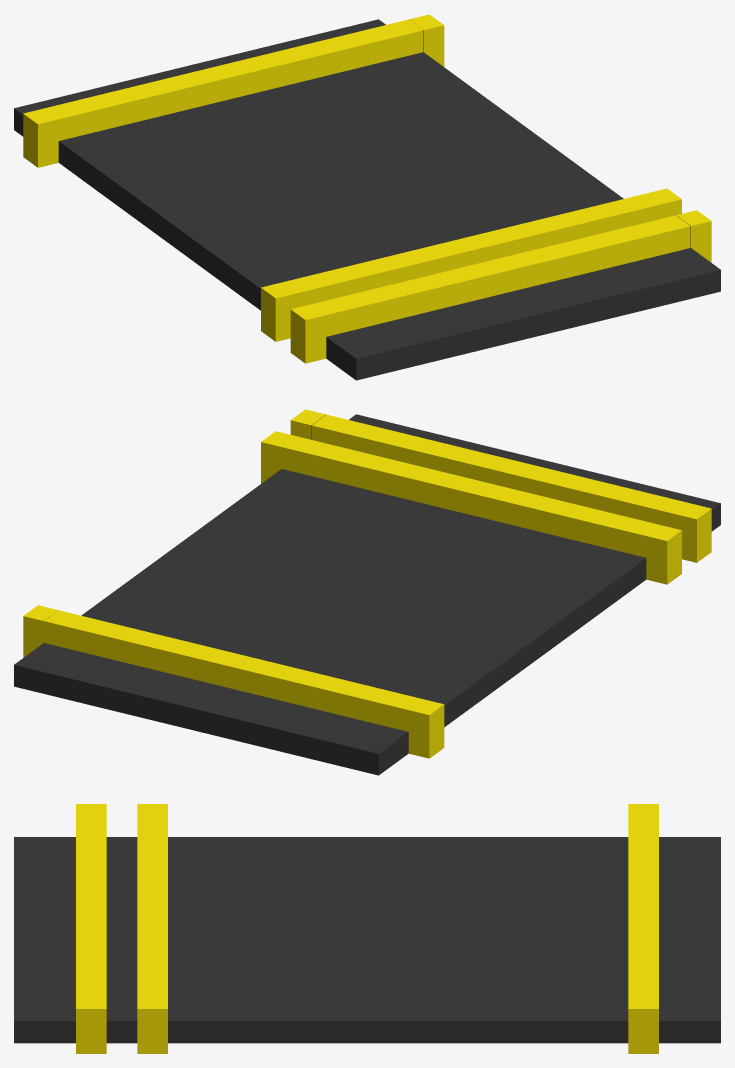
The model's file is крыша.obj.
3 views of the same model, one above another, from view 1: azimuth 30°, elevation 25°; view 2: azimuth 150°, elevation 25°; view 3: azimuth 270°, elevation 25° (orthographic). The views are drawn at different scales.
Parts seen in each view (by area): view 1: Куб.001; view 2: Куб.001; view 3: Куб.001.
Boxes of the visible parts, x1=… form: Куб.001: x1=14, y1=14, x2=720, y2=380; Куб.001: x1=14, y1=409, x2=720, y2=775; Куб.001: x1=14, y1=804, x2=720, y2=1053.
Bounding box in the file's own units: 3.71 × 0.3799 × 5.42.
